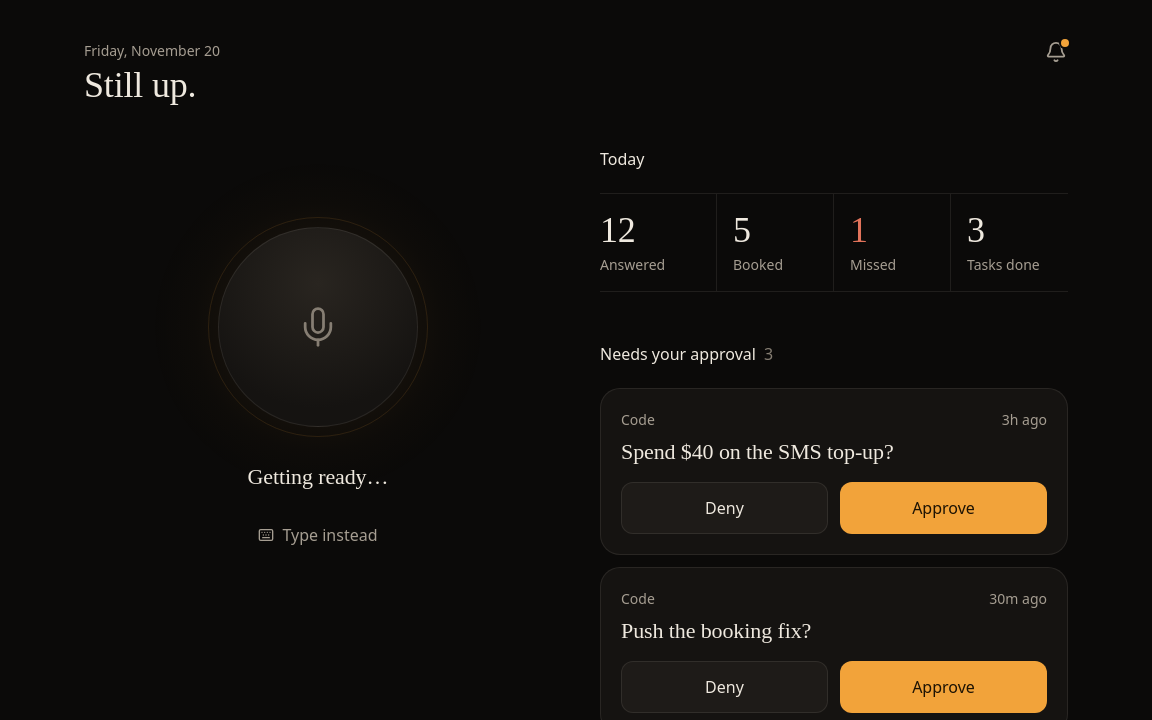
Alerts › opens a list of alerts, newest first, with how each one reached the owner
Step 1. Click the button named "Alerts" → (1056, 52), box left=1032, top=28, right=1080, bottom=76
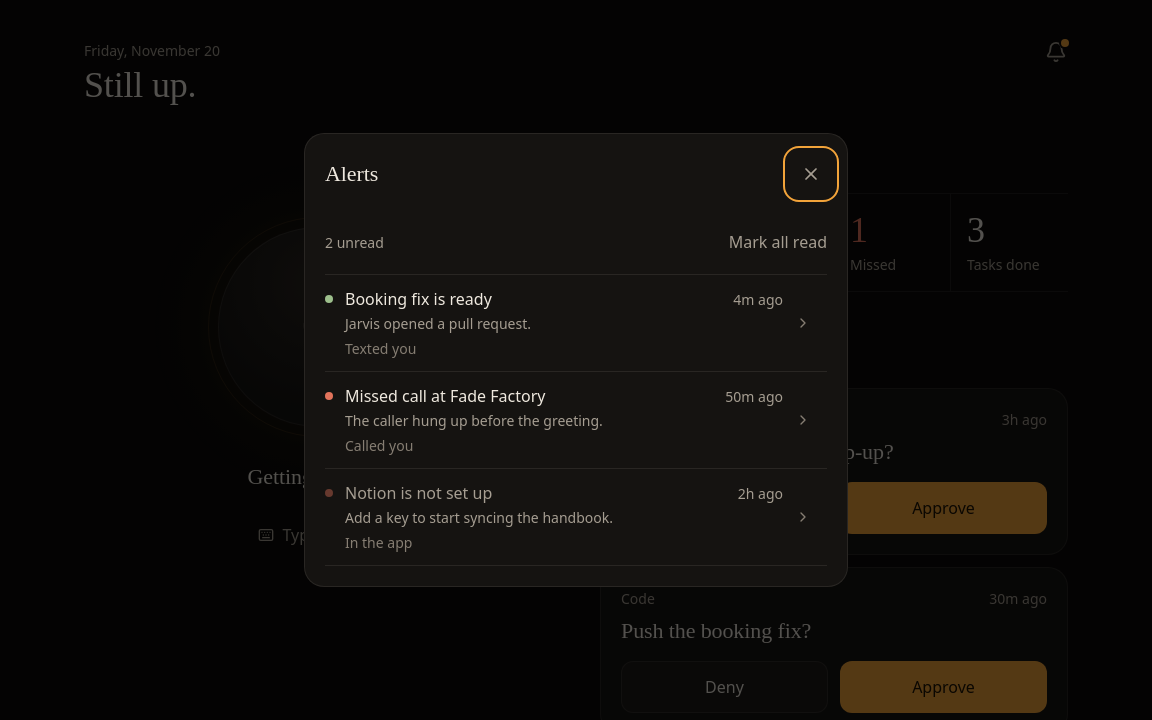
Result: the list item that starts with "Booking fix is ready" is shown at left=317, top=275, right=819, bottom=371
Result: the list item that starts with "Booking fix is ready" shows "Jarvis opened a pull request." at left=317, top=275, right=819, bottom=371
Result: the list item that starts with "Booking fix is ready" shows "Texted you" at left=317, top=275, right=819, bottom=371
